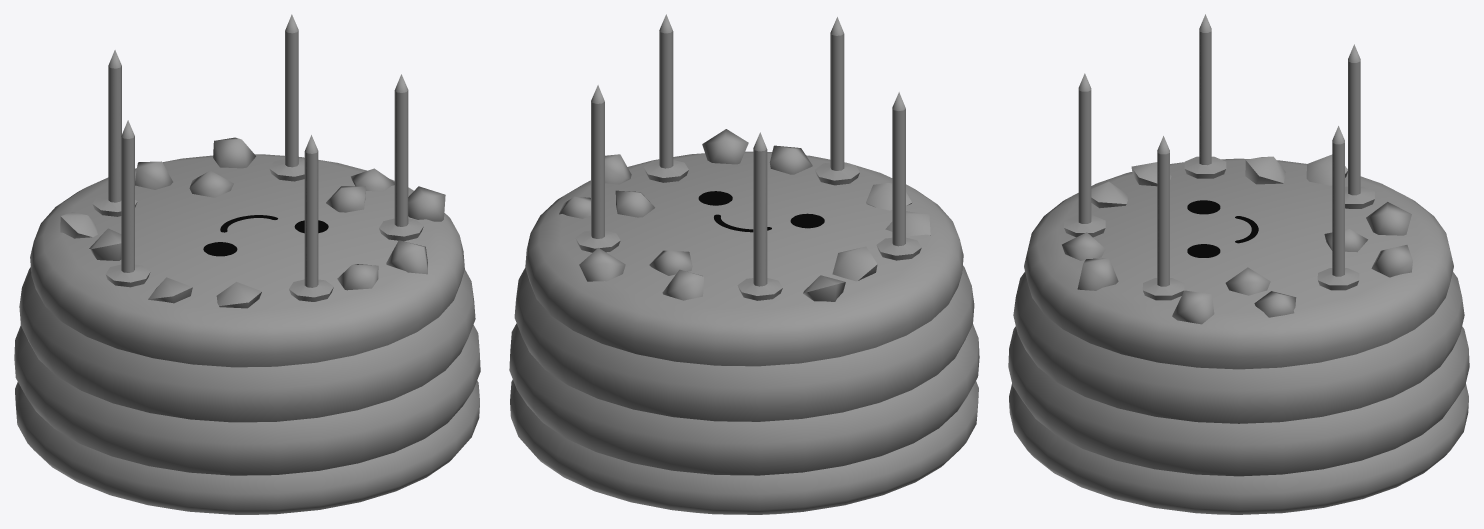
The model's file is cake_blue_smile.fbx.
The picture shows the model from 3 angles, left to right: view 1: azimuth 30°, elevation 25°; view 2: azimuth 150°, elevation 25°; view 3: azimuth 270°, elevation 25°; orthographic projection. The views are drawn at different scales.
Visible parts, largest first — view 1: cake_blue_smile; view 2: cake_blue_smile; view 3: cake_blue_smile.
Part boxes in pixels (left/top/right/bottom): cake_blue_smile: left=14, top=14, right=480, bottom=514; cake_blue_smile: left=509, top=14, right=979, bottom=514; cake_blue_smile: left=1008, top=14, right=1469, bottom=514.
Size of the model in its own units: 180 by 180 by 150.
Materials: 2 (1 with a texture image).
